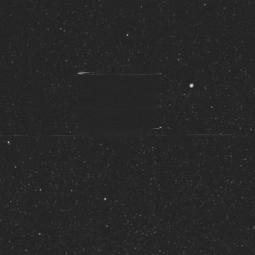double_start: (57, 60, 176, 147)
